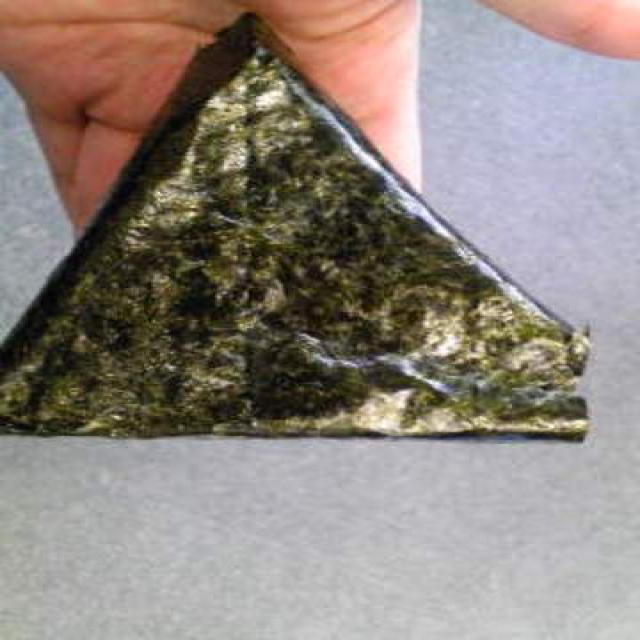米饭主食: (0, 17, 610, 464)
